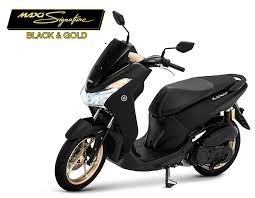motor: (37, 33, 242, 188)
